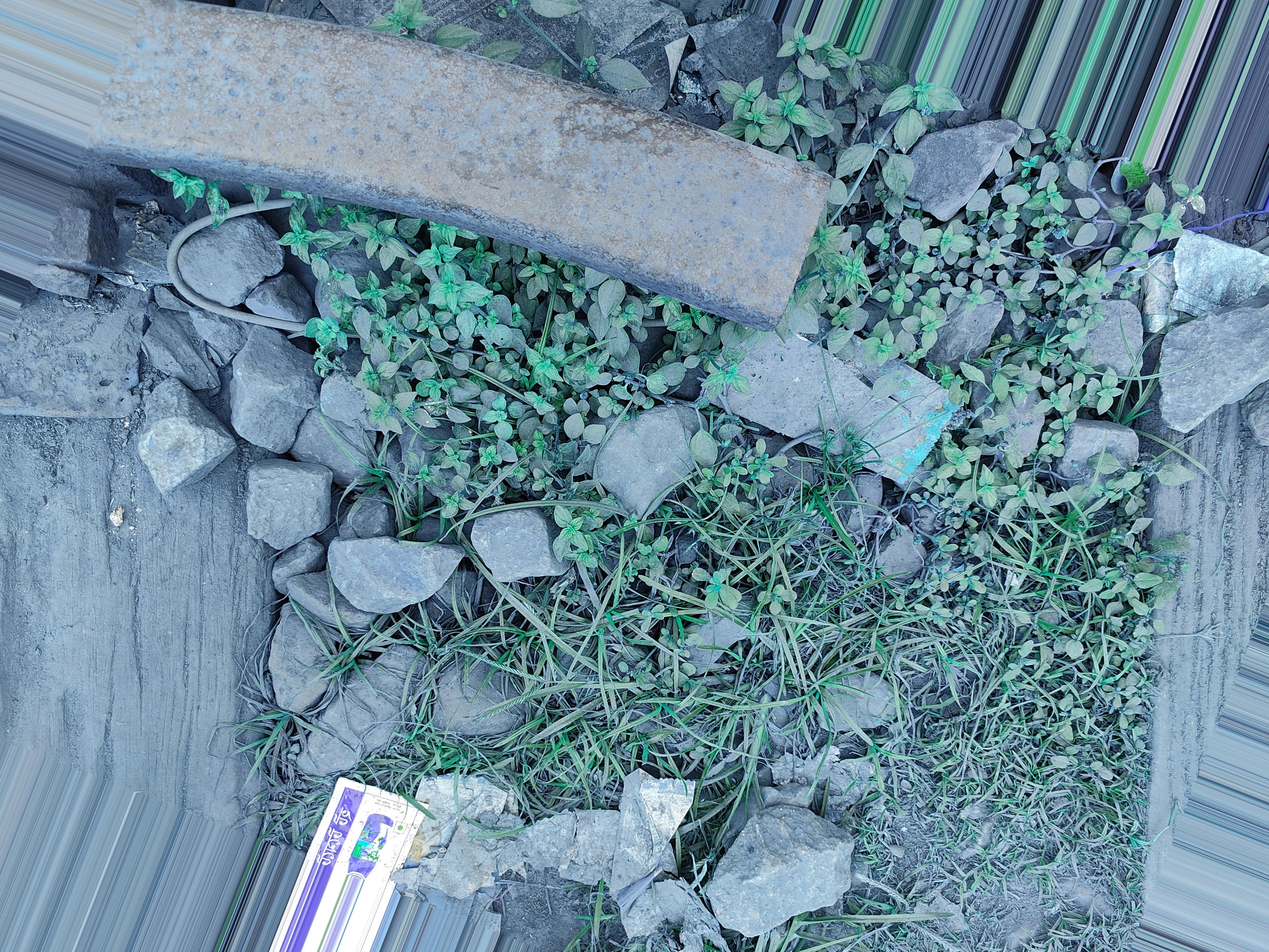tracks_fault: (675, 134, 1258, 403)
